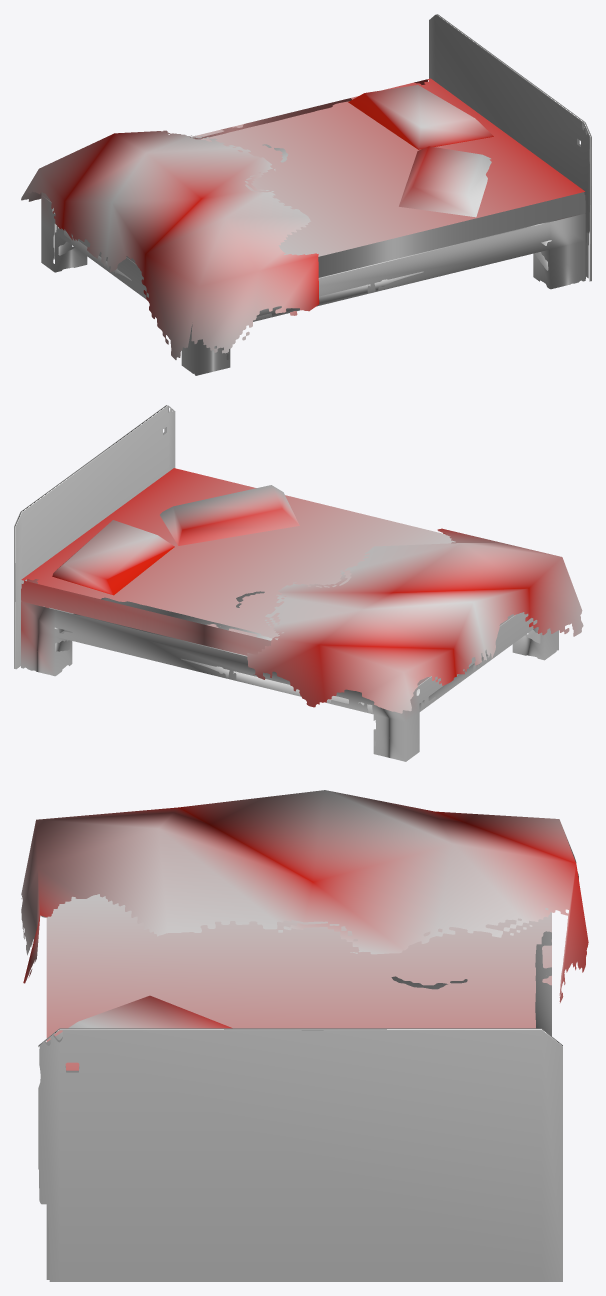
Rendered from DoubleBed.fbx.
3 views of the same model, one above another, from view 1: azimuth 30°, elevation 25°; view 2: azimuth 150°, elevation 25°; view 3: azimuth 270°, elevation 25° (orthographic). The views are drawn at different scales.
Visible parts, largest first — view 1: DoubleBed; view 2: DoubleBed; view 3: DoubleBed.
Boxes of the visible parts, x1=… form: DoubleBed: x1=21, y1=14, x2=591, y2=375; DoubleBed: x1=14, y1=405, x2=583, y2=761; DoubleBed: x1=21, y1=790, x2=588, y2=1281.
Bounding box in the file's own units: 880 × 312 × 648.
